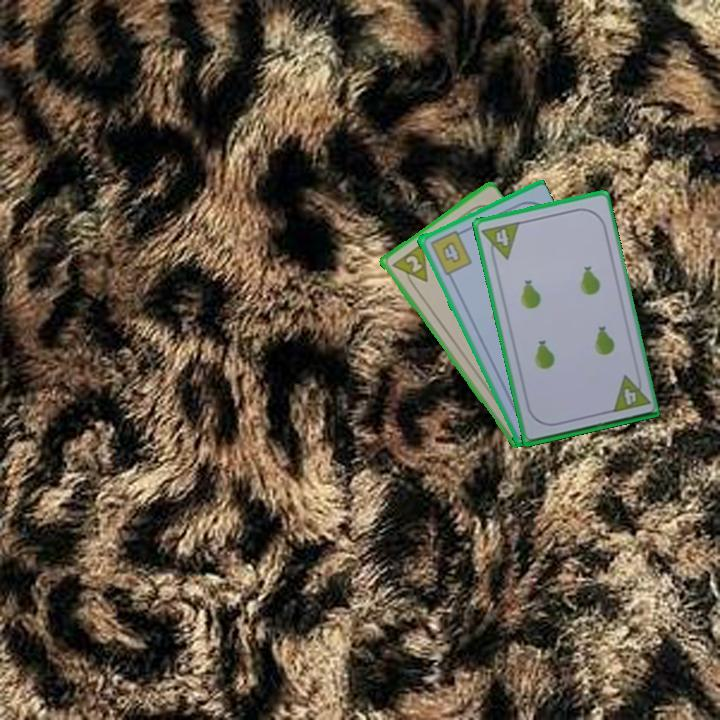2p: (387, 239, 431, 293)
4b: (426, 226, 474, 277)
4p: (478, 218, 522, 265), (608, 370, 652, 415)
